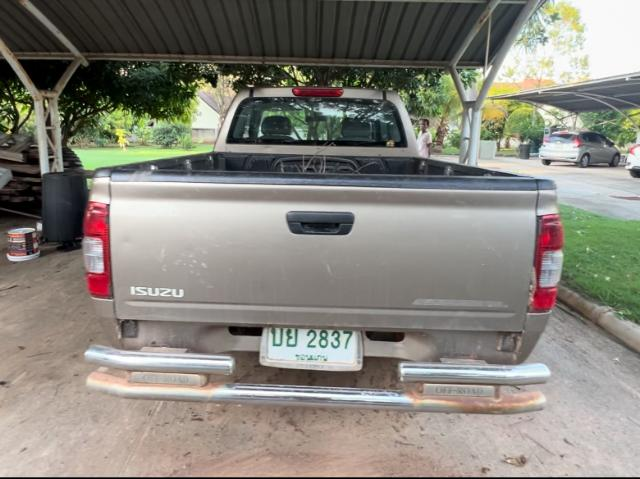pickup-truck: (76, 83, 568, 417)
